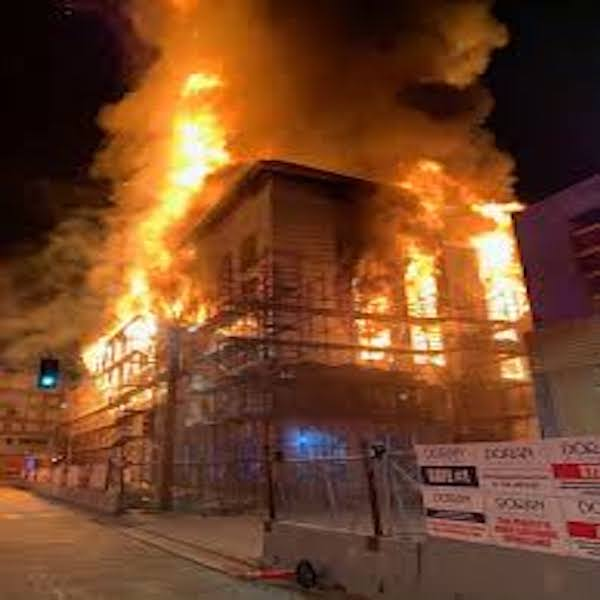fire: (391, 139, 525, 357), (136, 8, 235, 192), (87, 206, 204, 353), (350, 268, 394, 358)
